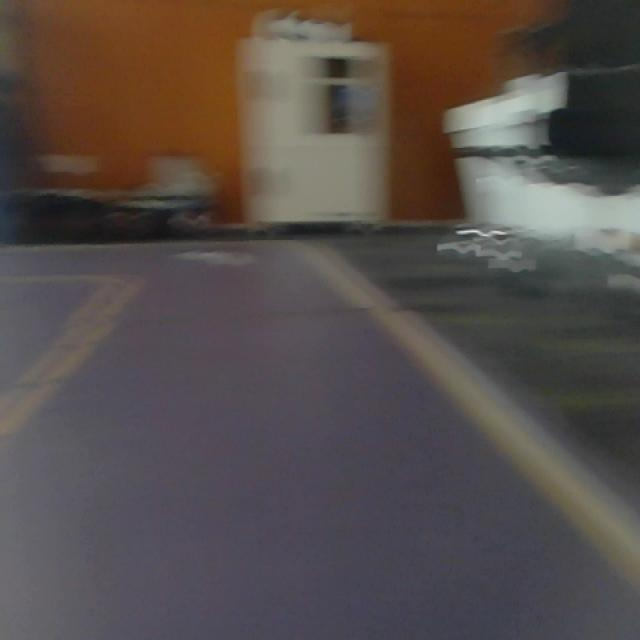left_lane: (0, 279, 140, 450)
right_lane: (314, 246, 640, 581)
